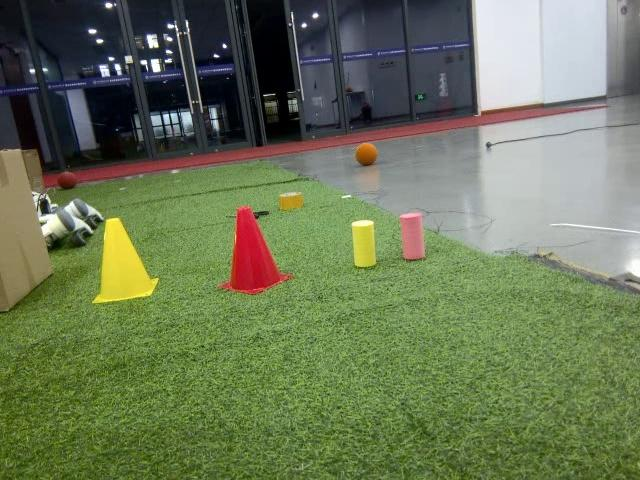orange_ball: (354, 142, 378, 168)
red_barrel: (217, 202, 292, 298)
red_cylinder: (398, 210, 429, 264)
yellow_barrel: (89, 216, 160, 306)
yellow_cylinder: (352, 218, 379, 269)
